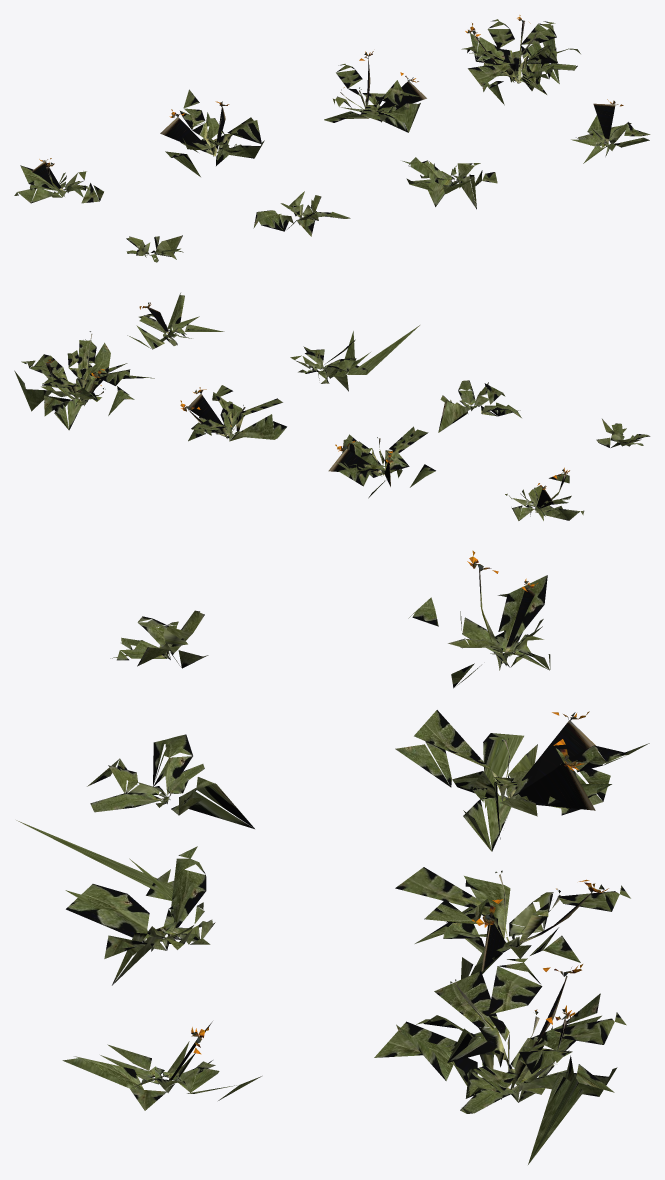
File: flower_gazania.glb
The picture shows the model from 3 angles, top to bottom: view 1: azimuth 30°, elevation 25°; view 2: azimuth 150°, elevation 25°; view 3: azimuth 270°, elevation 25°; orthographic projection. The views are drawn at different scales.
Visible parts, largest first — view 1: flower_gazania; view 2: flower_gazania; view 3: flower_gazania.
Boxes of the visible parts, box(x1,y1,x2,y2) form: flower_gazania: box(14, 15, 650, 262); flower_gazania: box(14, 293, 650, 520); flower_gazania: box(16, 550, 649, 1164).
Bounding box in the file's own units: 1.87 × 0.2486 × 0.9626.
Materials: 1 (1 with a texture image).
